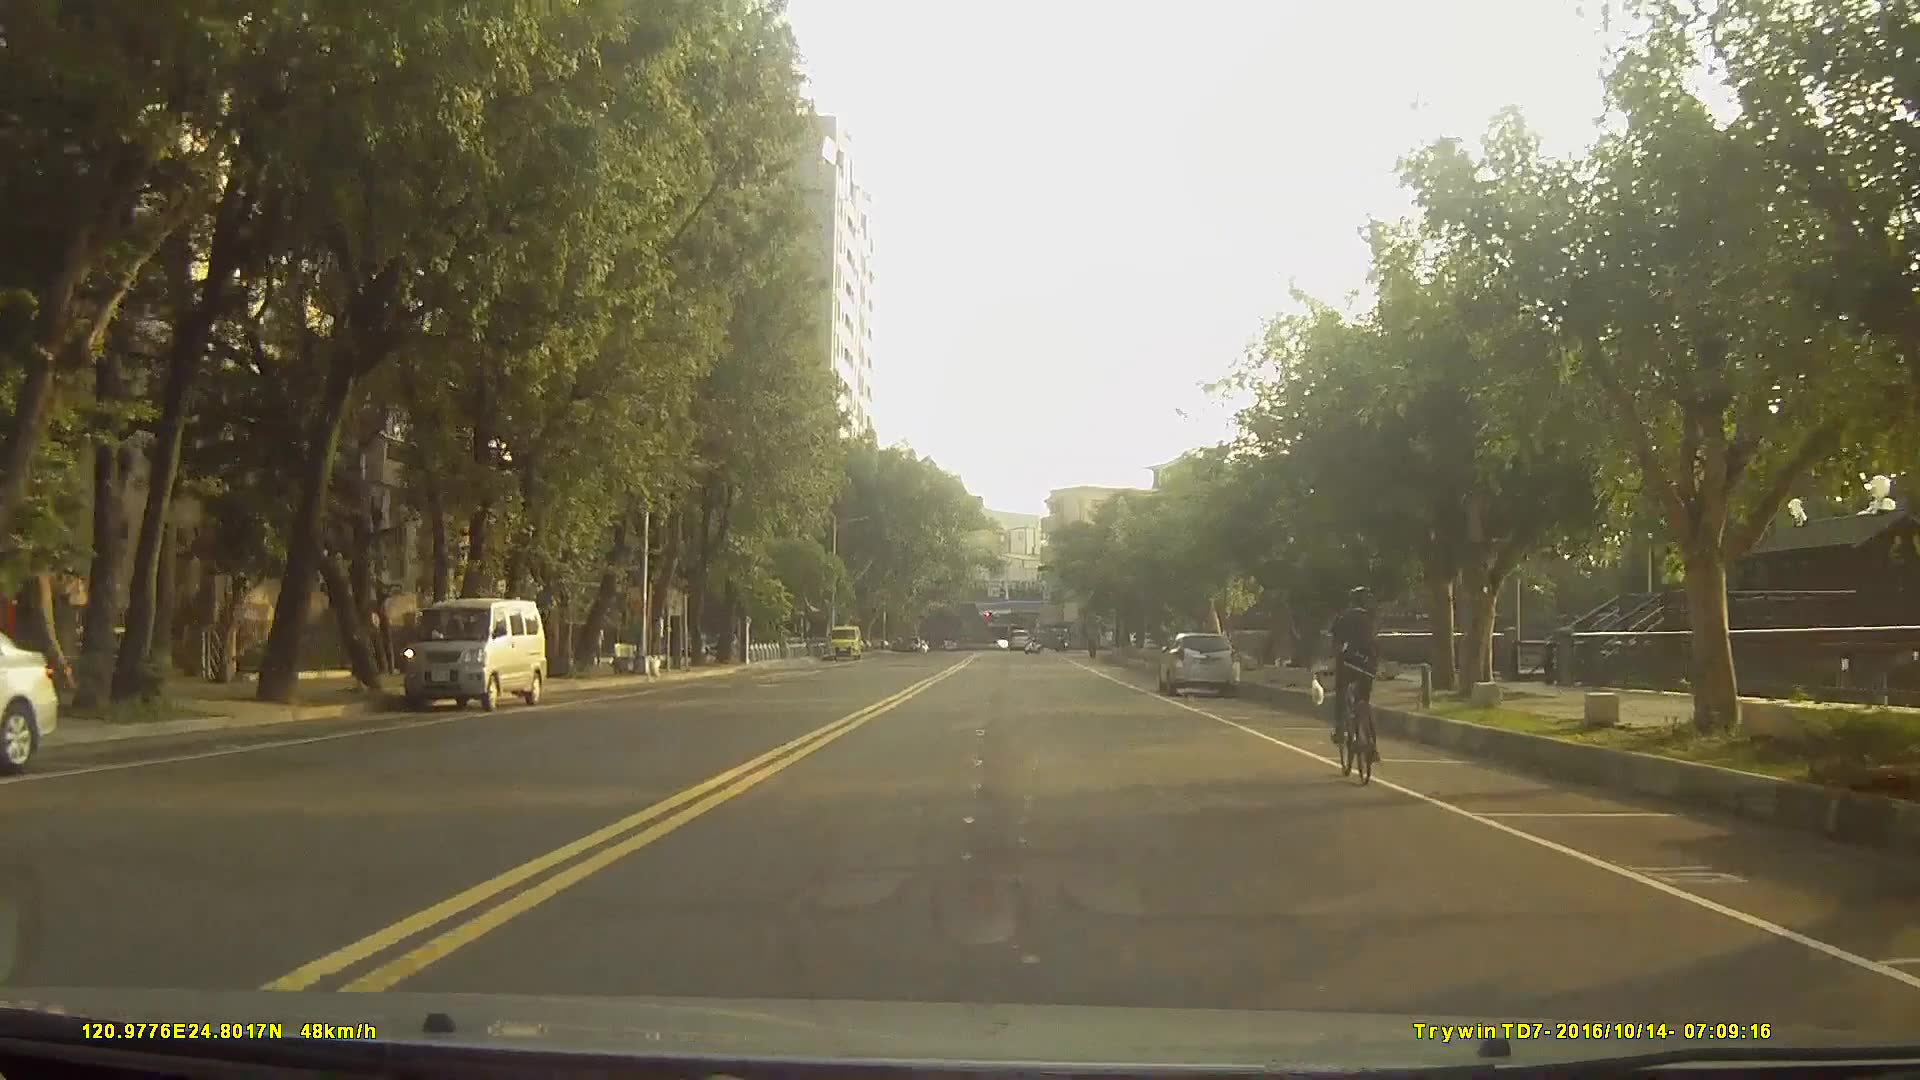rider: (1325, 586, 1379, 781)
vehicle: (402, 594, 546, 711), (0, 628, 57, 771), (1158, 629, 1241, 697), (1006, 624, 1031, 650)
